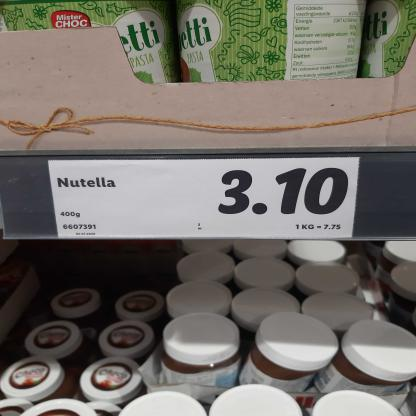prtg: (49, 158, 362, 239)
